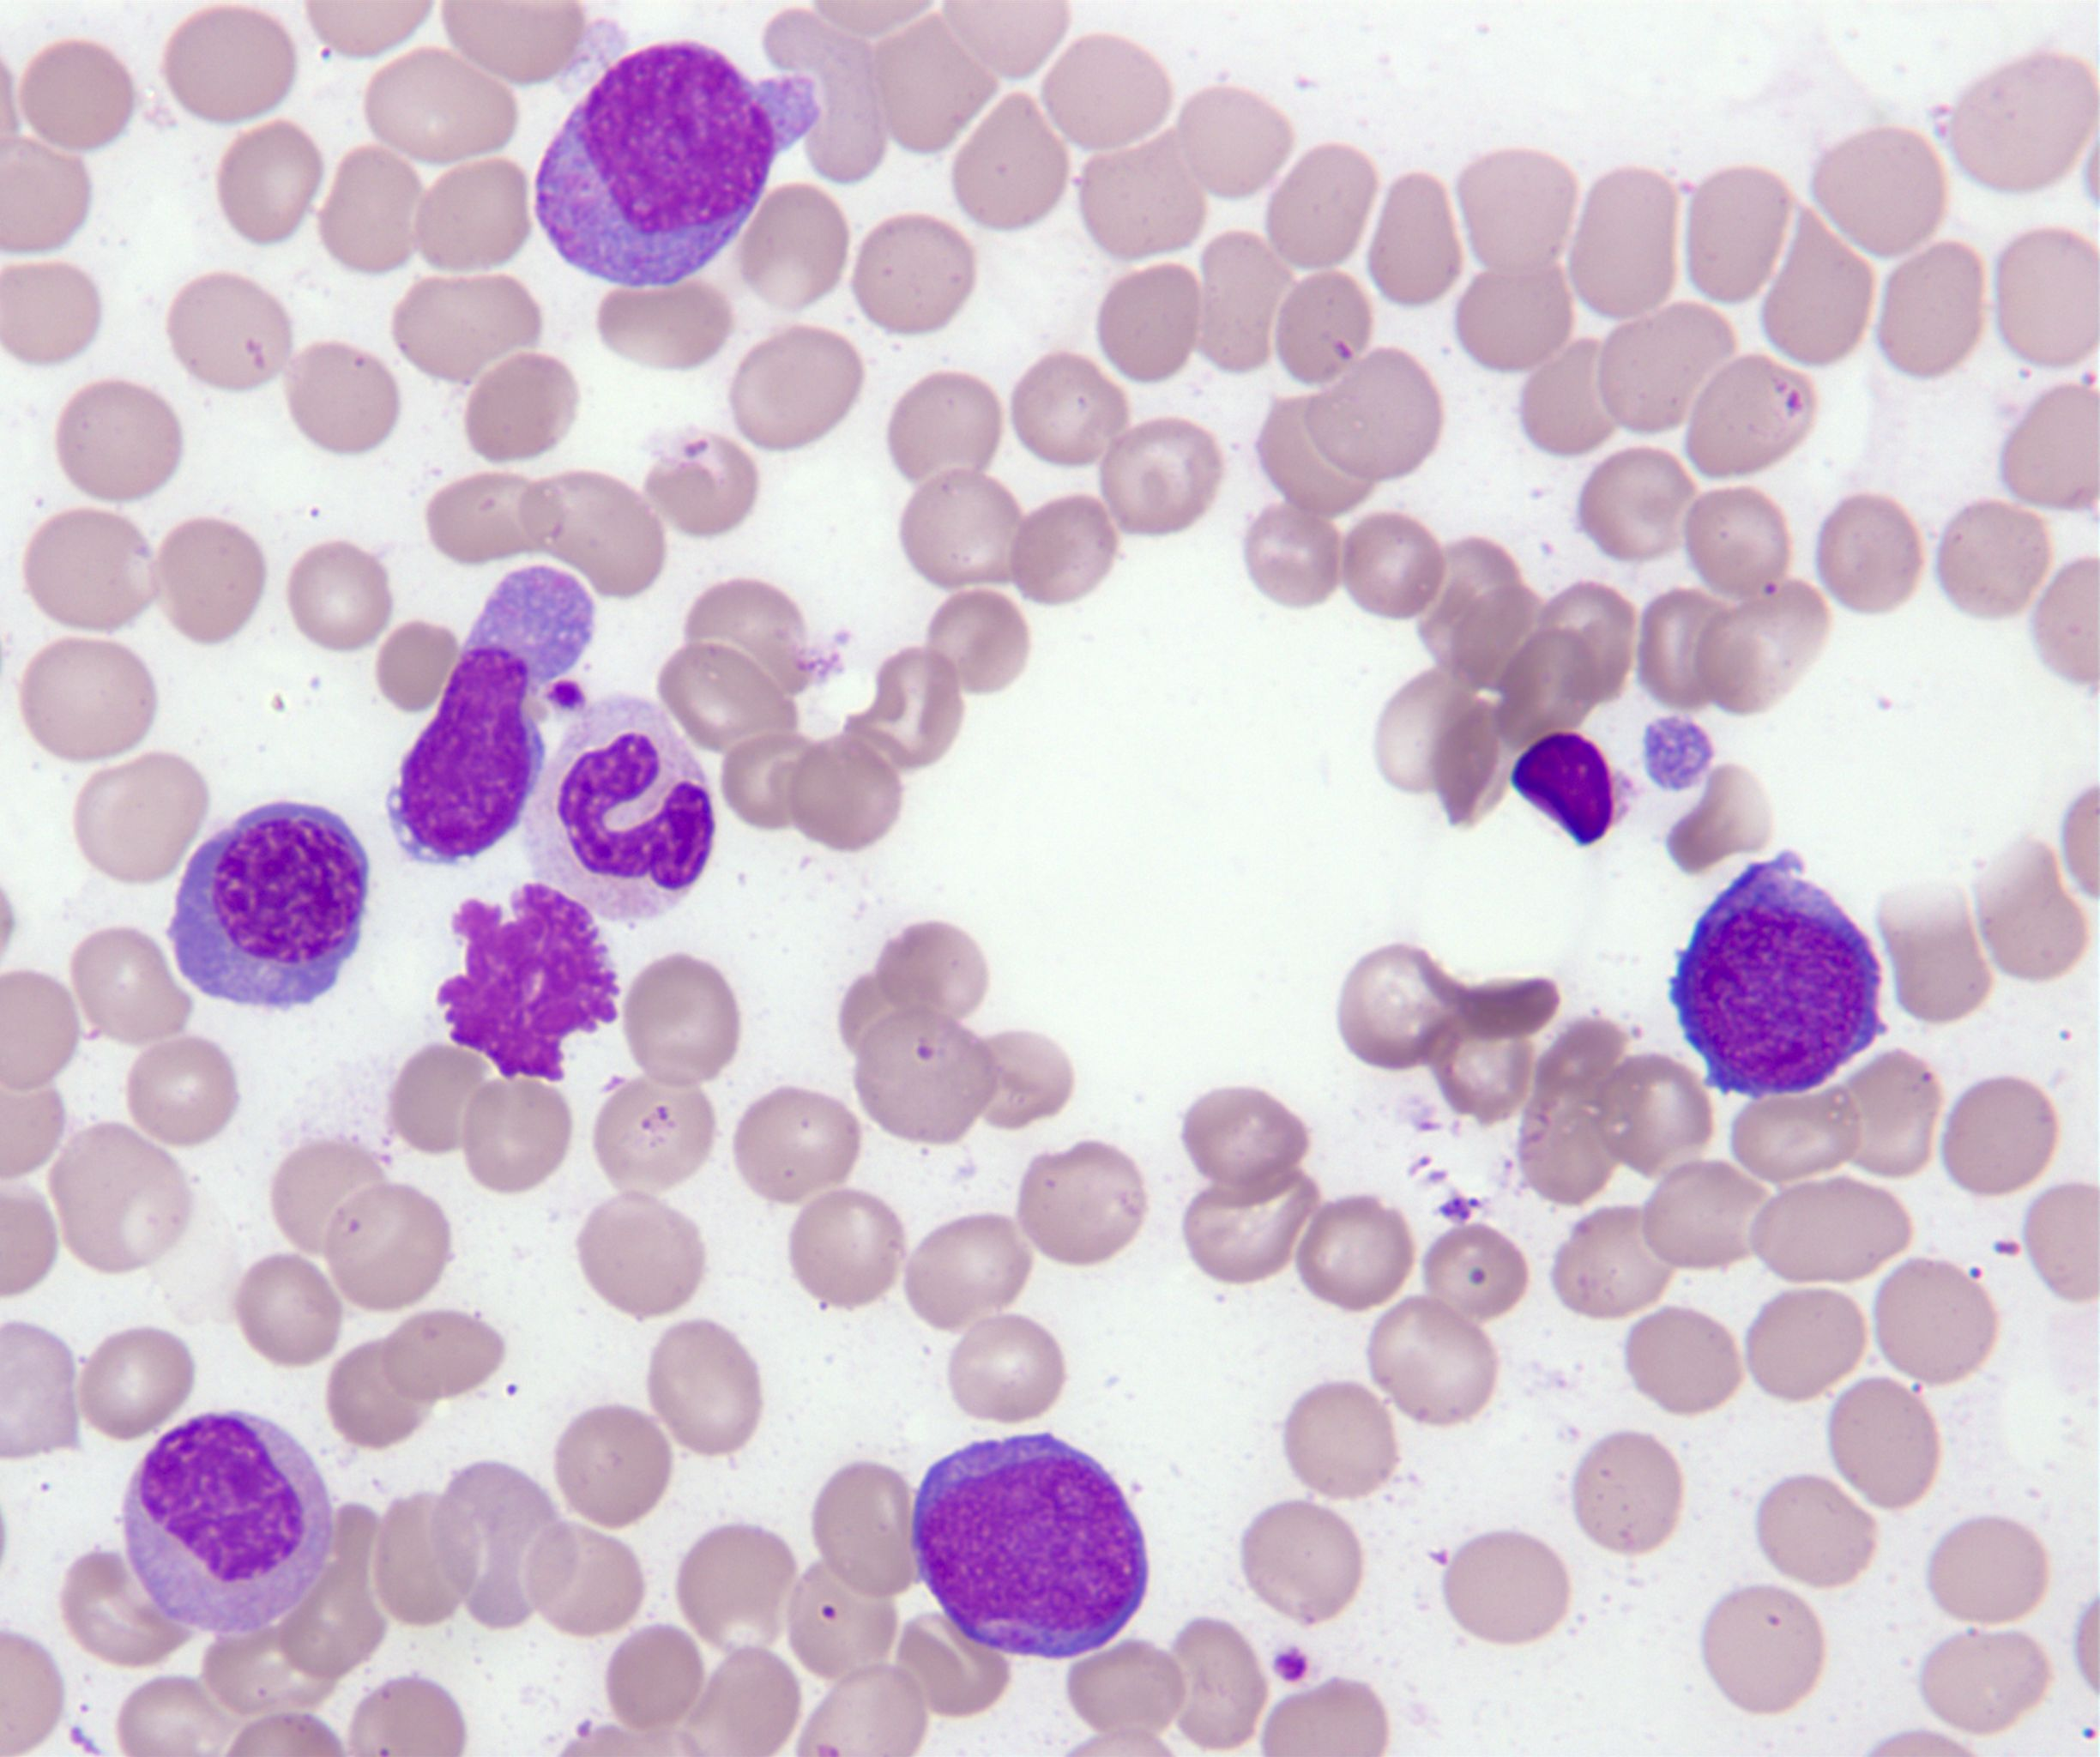1: (910, 1434, 1148, 1656)
2: (535, 42, 822, 286)
22: (1671, 850, 1885, 1097)
23: (166, 804, 368, 1007)
3: (122, 1412, 330, 1631)
42: (387, 564, 595, 867)
5: (525, 694, 713, 921)
x: (436, 883, 621, 1080), (1514, 733, 1634, 844)
